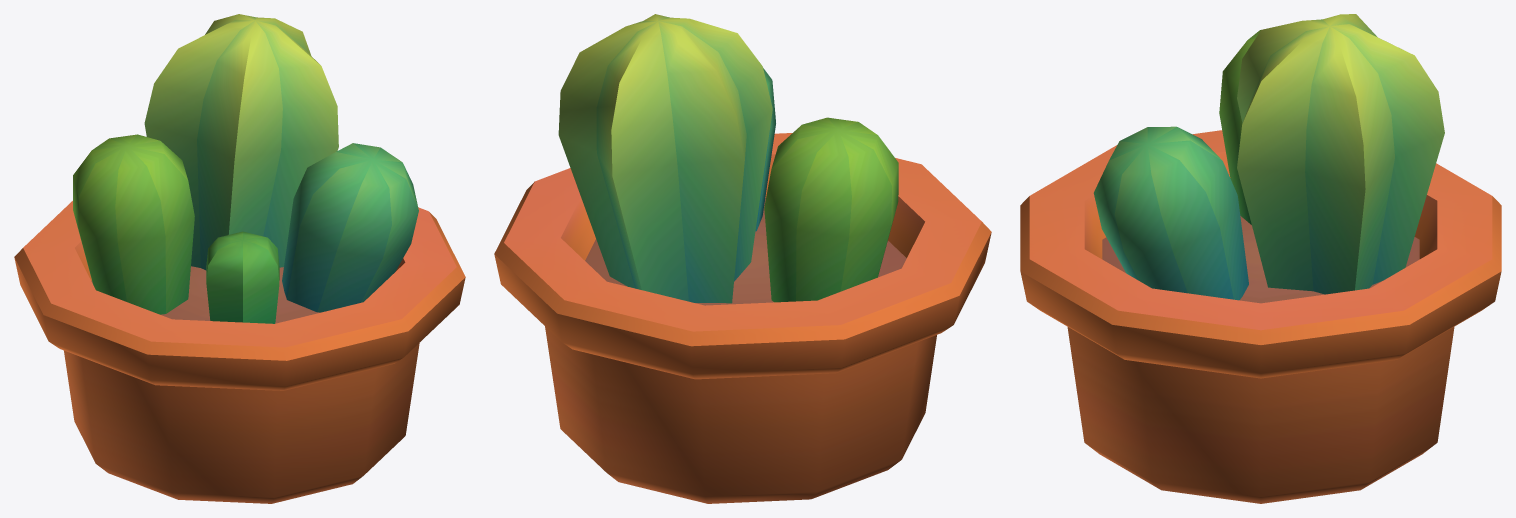
File: cactus_medium_B.glb
The picture shows the model from 3 angles, left to right: view 1: azimuth 30°, elevation 25°; view 2: azimuth 150°, elevation 25°; view 3: azimuth 270°, elevation 25°; orthographic projection. The views are drawn at different scales.
Visible parts, largest first — view 1: cactus_medium_B; view 2: cactus_medium_B; view 3: cactus_medium_B.
Part boxes in pixels (<box>): cactus_medium_B: <box>14,14,465,503</box>; cactus_medium_B: <box>494,14,991,503</box>; cactus_medium_B: <box>1020,14,1501,503</box>.
Bounding box in the file's own units: 0.8799 × 0.8273 × 0.8368.
Materials: 1 (1 with a texture image).
